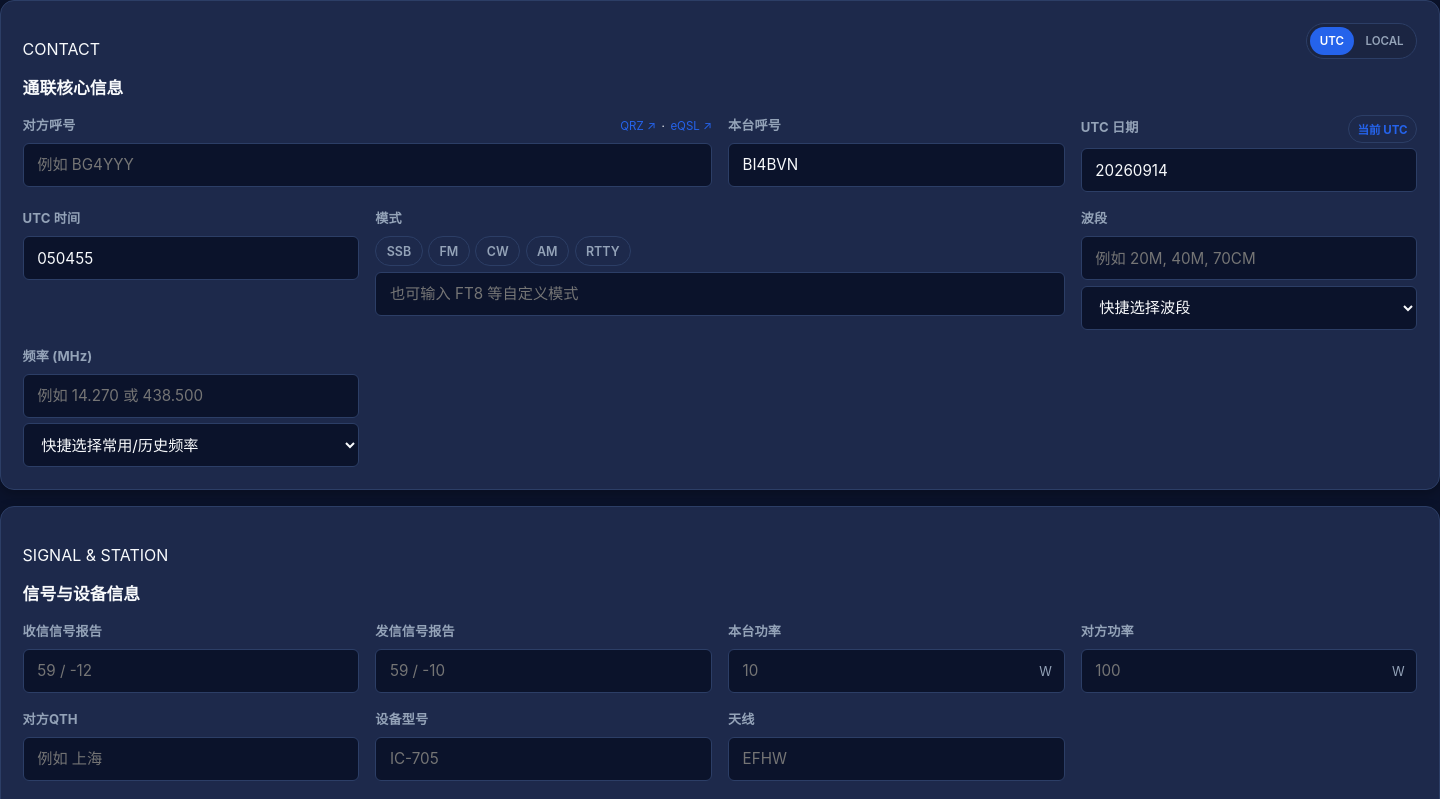
QsoForm › updates band automatically when frequency changes
Type "439.750" into the field labelled "频率 (MHz)" at (191, 396), box top-left (23, 374), bottom-right (359, 418)
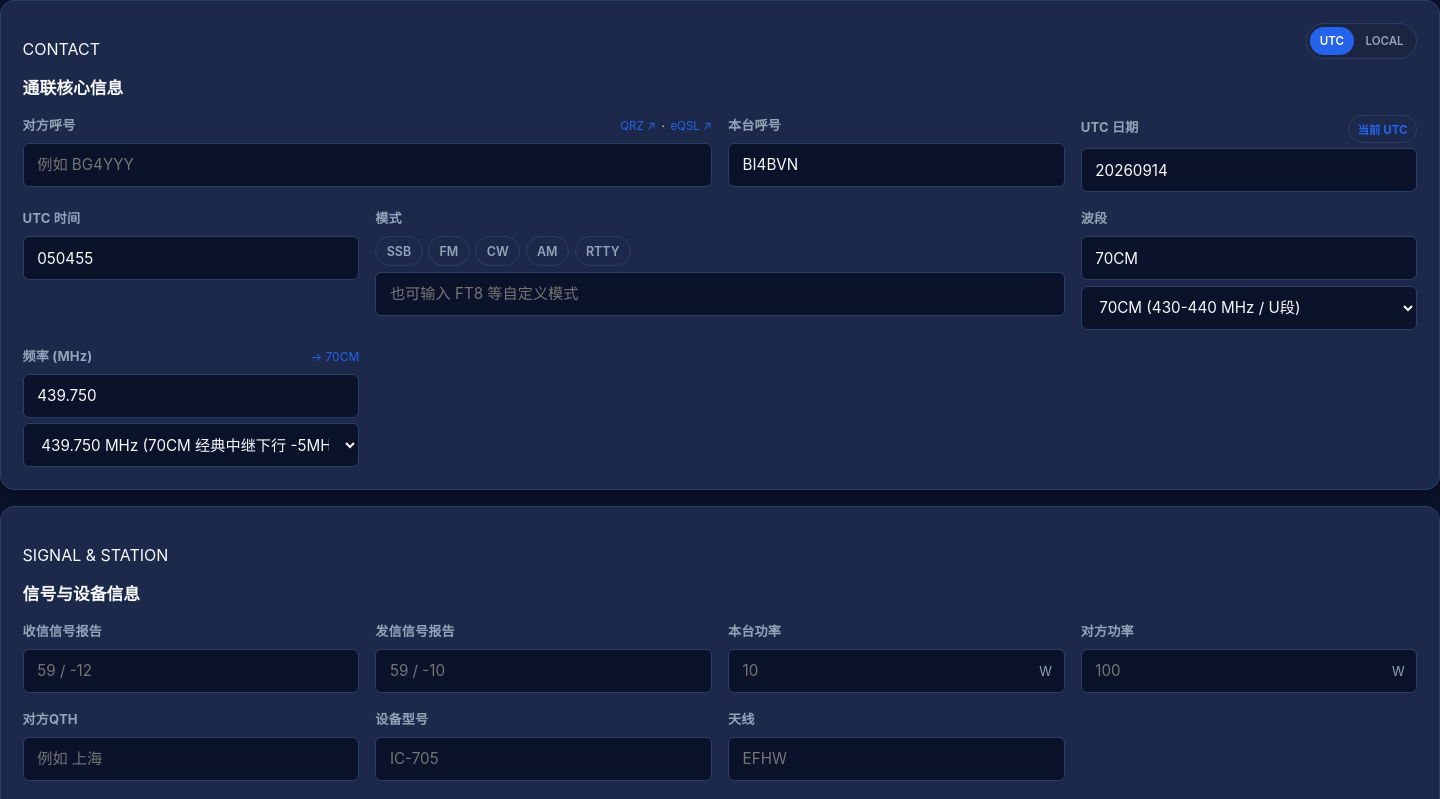
Expected: the field labelled "波段" holds "70CM", top-left (1081, 236), bottom-right (1417, 280)
Replace the text in the field labelled "频率 (MHz)" with "14.270" at (191, 396), box top-left (23, 374), bottom-right (359, 418)
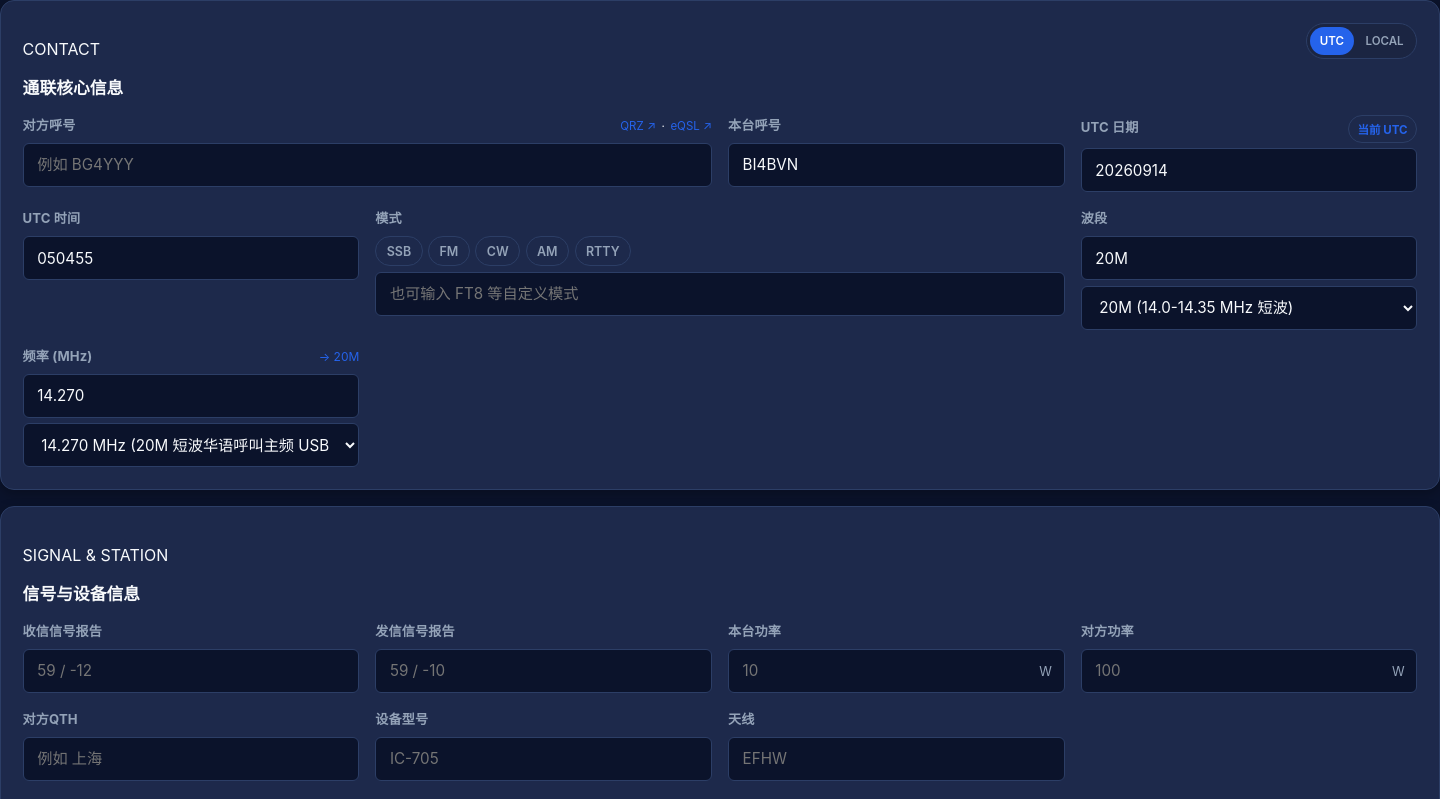
Expected: the field labelled "波段" holds "20M", top-left (1081, 236), bottom-right (1417, 280)
Replace the text in the field labelled "频率 (MHz)" with "145.000" at (191, 396), box top-left (23, 374), bottom-right (359, 418)
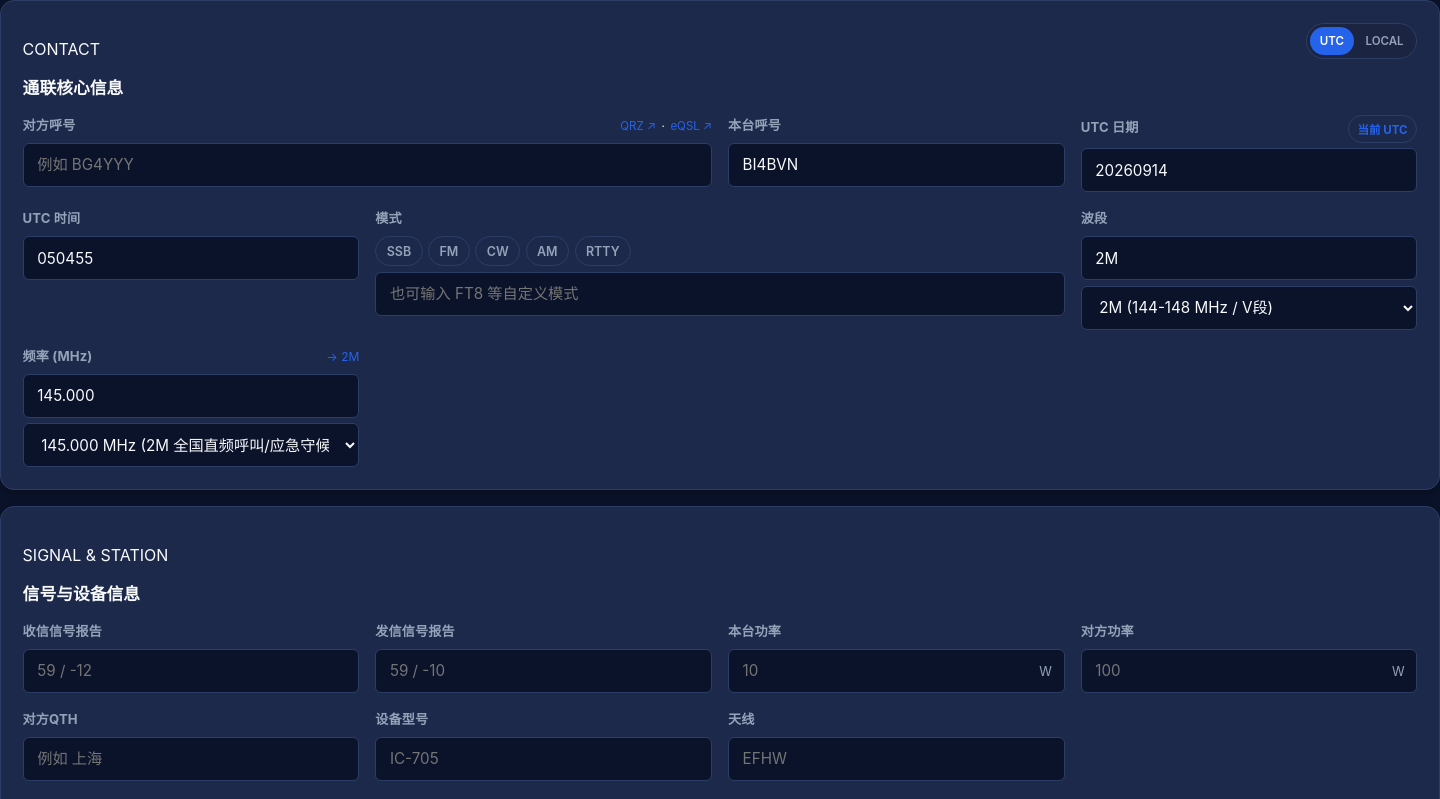
Expected: the field labelled "波段" holds "2M", top-left (1081, 236), bottom-right (1417, 280)
